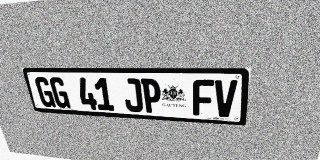1: (93, 78, 114, 111)
4: (76, 78, 98, 110)
F: (193, 79, 214, 116)
G: (49, 77, 71, 108), (34, 77, 56, 107)
J: (122, 78, 143, 112)
P: (141, 79, 162, 113)
V: (214, 80, 238, 118)
